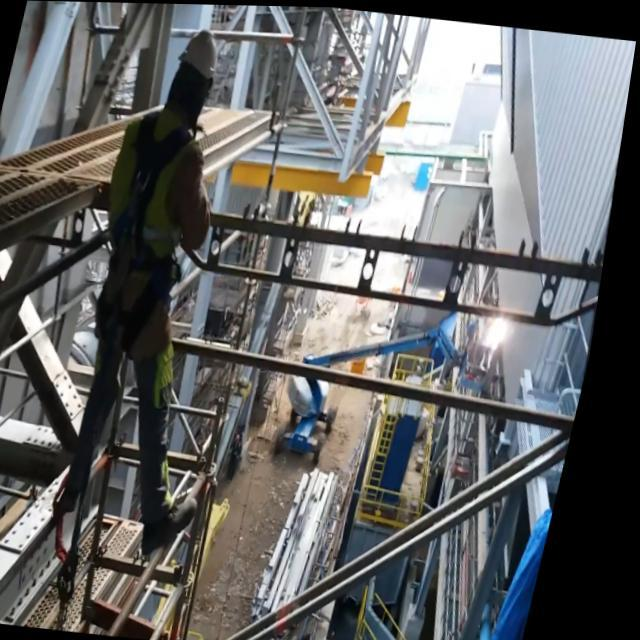belt: (78, 96, 228, 362)
